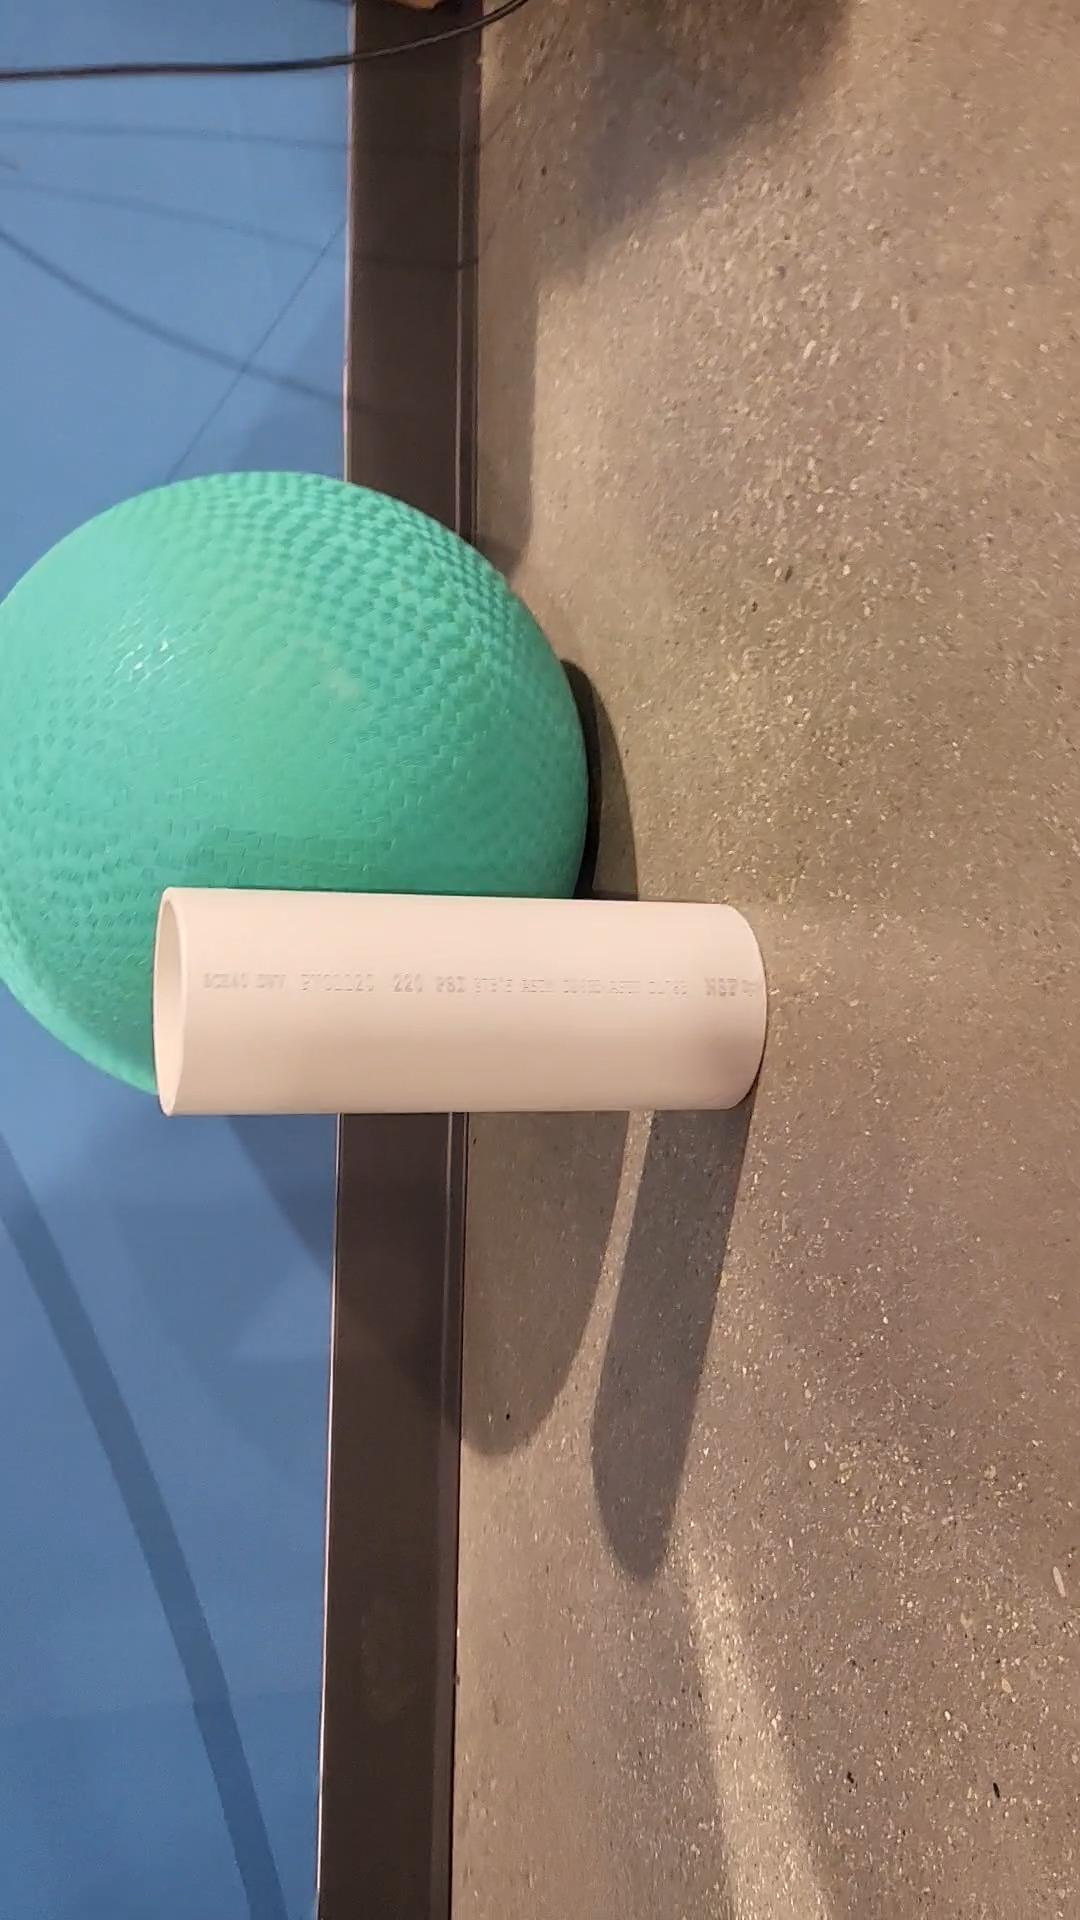algae: (0, 473, 584, 1096)
coral: (154, 887, 769, 1114)
